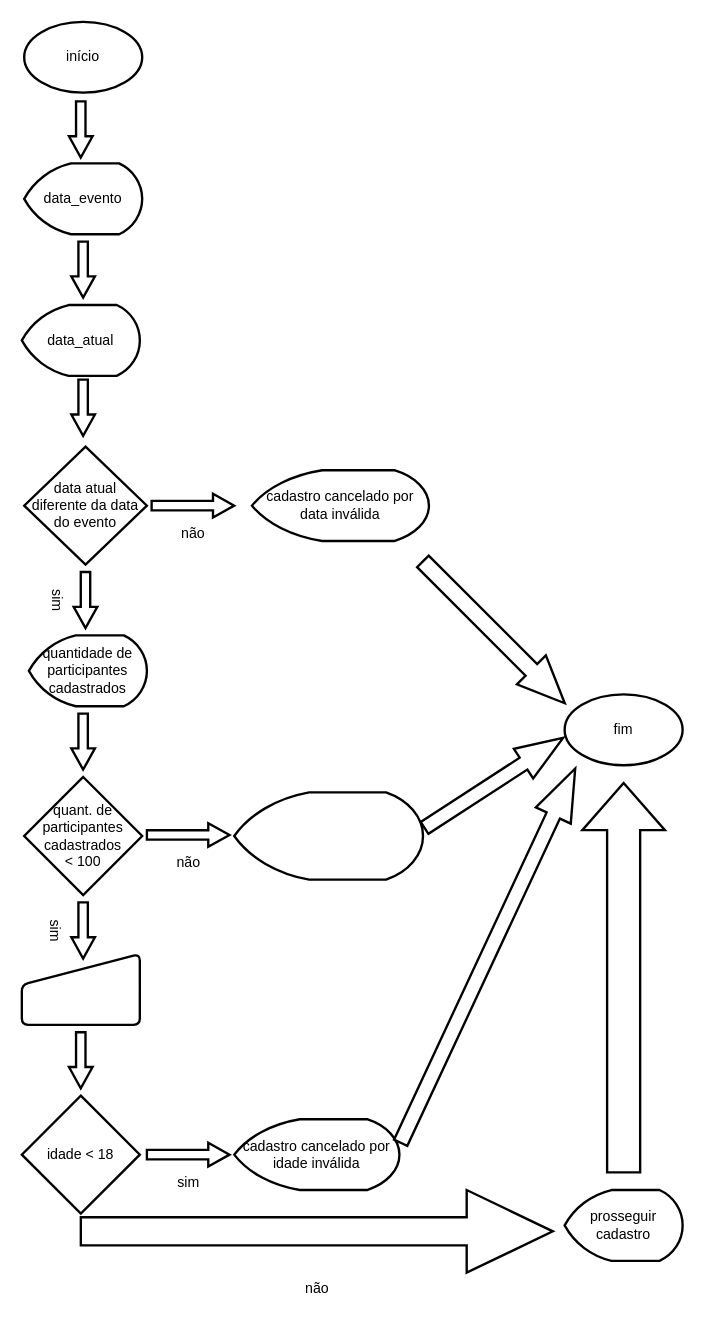
Some shapes in this 703 by 1317 pixel diagram are drawn without their labels. Here are the shapes that lost their labels. From the top down, the centre of each, then its label:
point (328, 835): Cadastro cancelado por limite excedente
point (80, 988): informe idade
